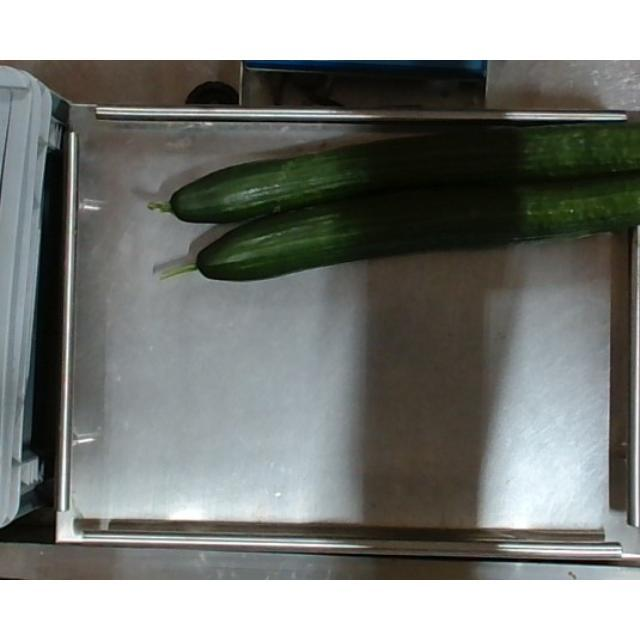cucumber: (164, 178, 640, 290), (150, 122, 640, 228)
